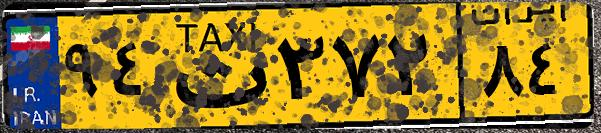2: (385, 28, 445, 110)
3: (270, 28, 330, 110)
4: (525, 38, 570, 115), (110, 28, 158, 98)
7: (330, 28, 385, 110)
8: (475, 38, 525, 113)
9: (57, 26, 110, 100)
ت: (158, 12, 270, 120)
